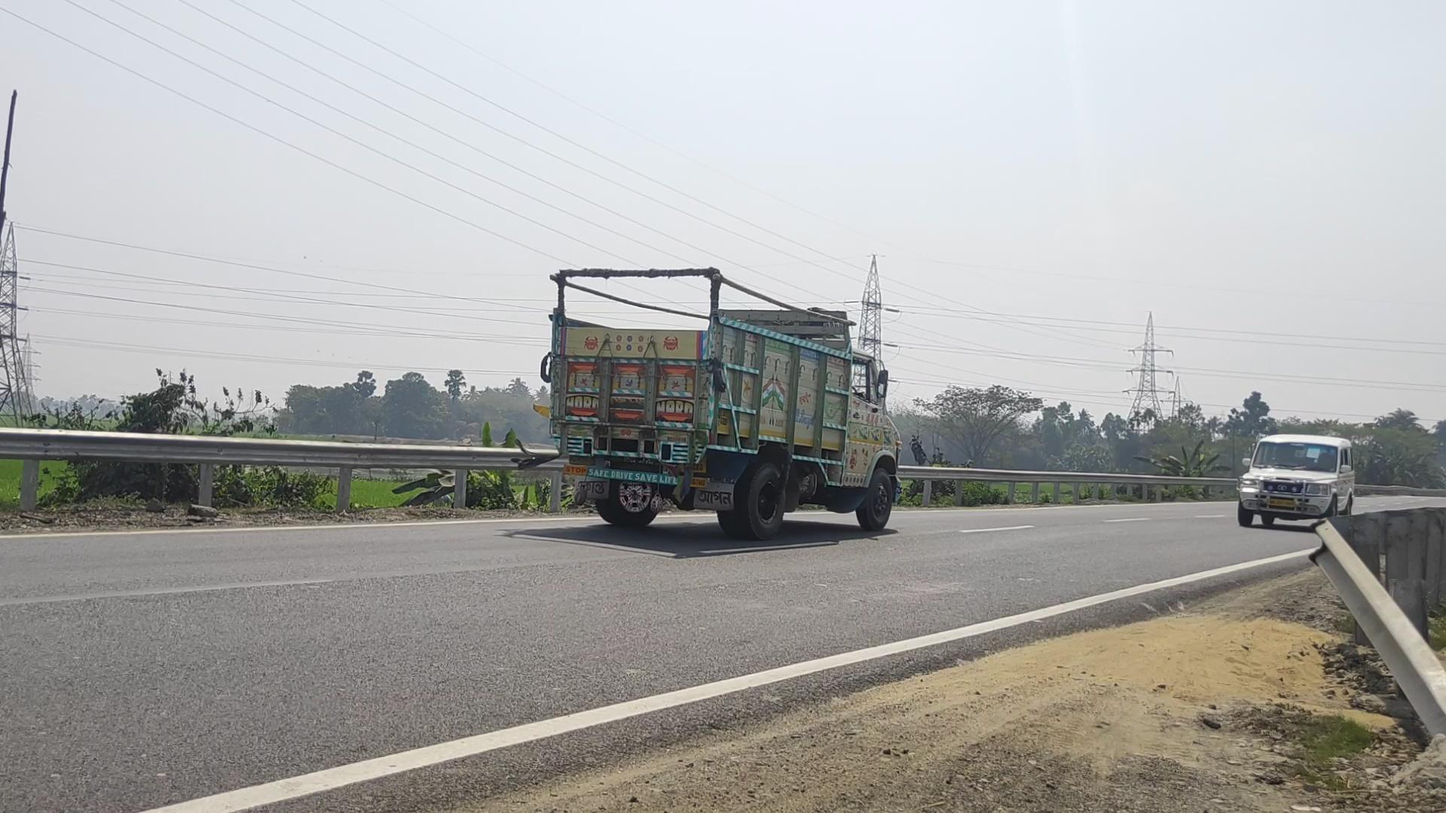car: (1237, 434, 1354, 530)
truck: (548, 267, 901, 544)
